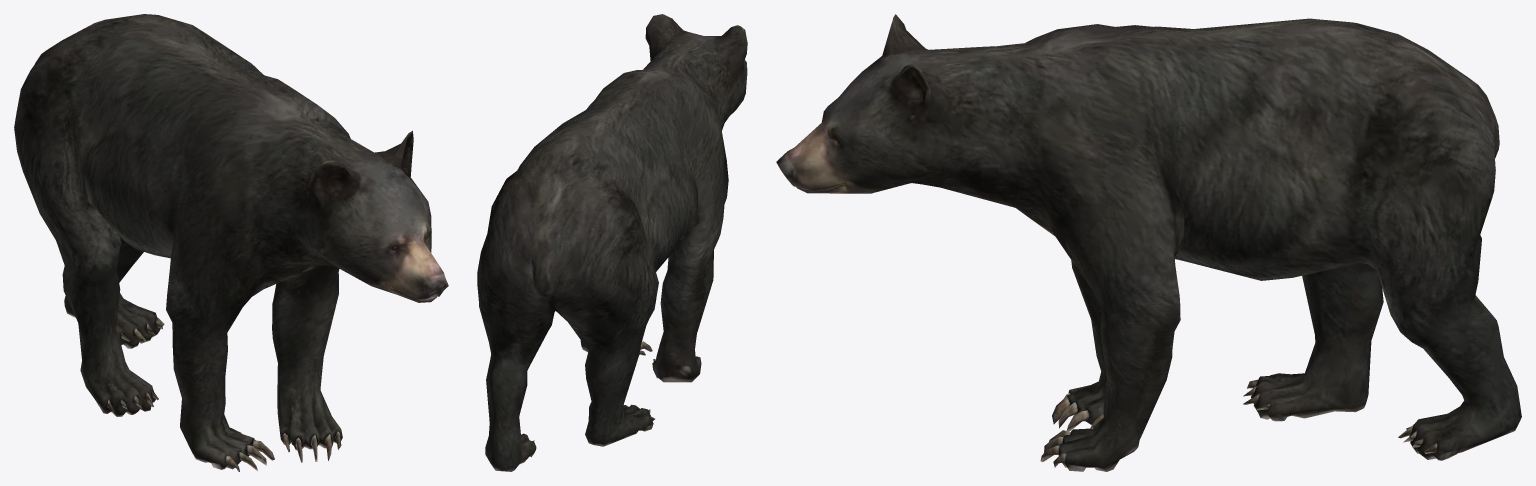
Rendered from bear.glb.
3 views of the same model, side by side, from view 1: azimuth 30°, elevation 25°; view 2: azimuth 150°, elevation 25°; view 3: azimuth 270°, elevation 25° (orthographic). The views are drawn at different scales.
Parts seen in each view (by area): view 1: Bear001_applied_clean_M_Bear_0_M_Bear_0; view 2: Bear001_applied_clean_M_Bear_0_M_Bear_0; view 3: Bear001_applied_clean_M_Bear_0_M_Bear_0.
Boxes of the visible parts, x1,y1,x2,y2 form: Bear001_applied_clean_M_Bear_0_M_Bear_0: [14, 14, 448, 471]; Bear001_applied_clean_M_Bear_0_M_Bear_0: [477, 14, 747, 471]; Bear001_applied_clean_M_Bear_0_M_Bear_0: [776, 14, 1521, 471].
Size of the model in its own units: 1.05 by 1.78 by 2.91.
1 material, 1 textured.
